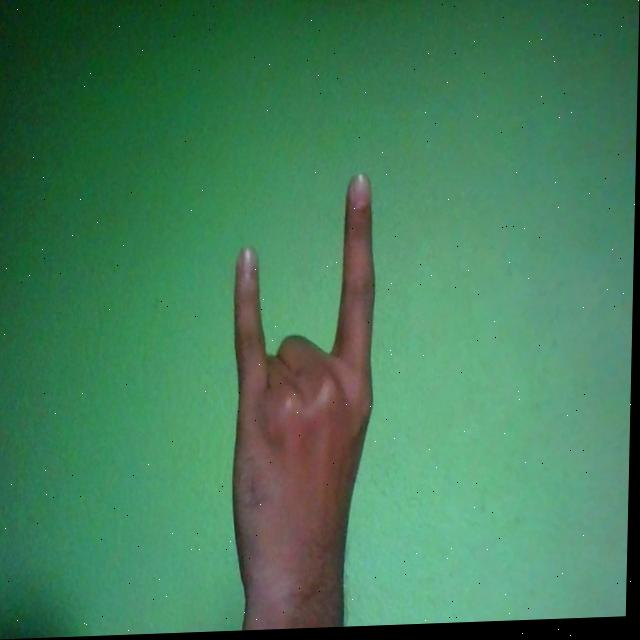Rock On: (229, 176, 381, 617)
